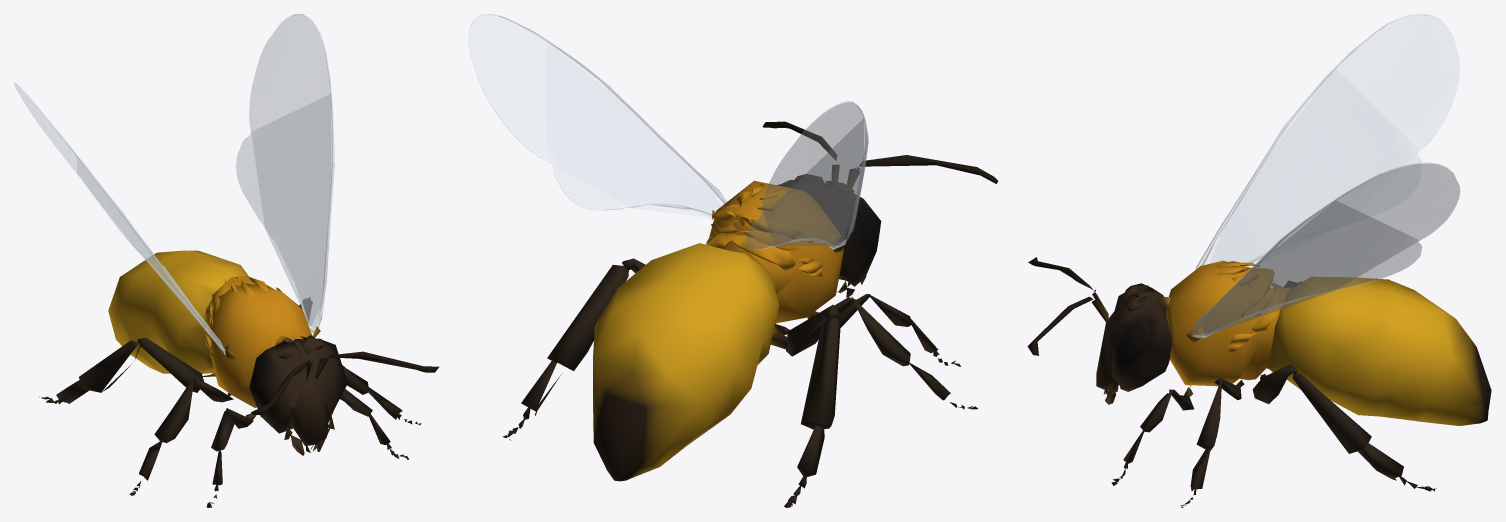
File: abelha.glb
3 views of the same model, side by side, from view 1: azimuth 30°, elevation 25°; view 2: azimuth 150°, elevation 25°; view 3: azimuth 270°, elevation 25° (orthographic). The views are drawn at different scales.
Parts seen in each view (by area): view 1: Abelha; view 2: Abelha; view 3: Abelha.
Part boxes in pixels (x1,y1,x2,y2): Abelha: [14, 14, 439, 507]; Abelha: [468, 14, 998, 507]; Abelha: [1027, 14, 1491, 507].
Bounding box in the file's own units: 0.77 × 0.8211 × 1.
